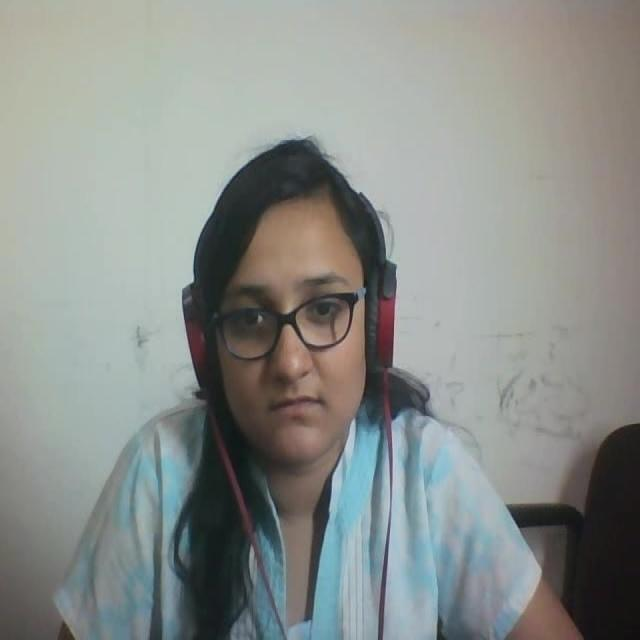Engaged: (161, 119, 443, 477)
